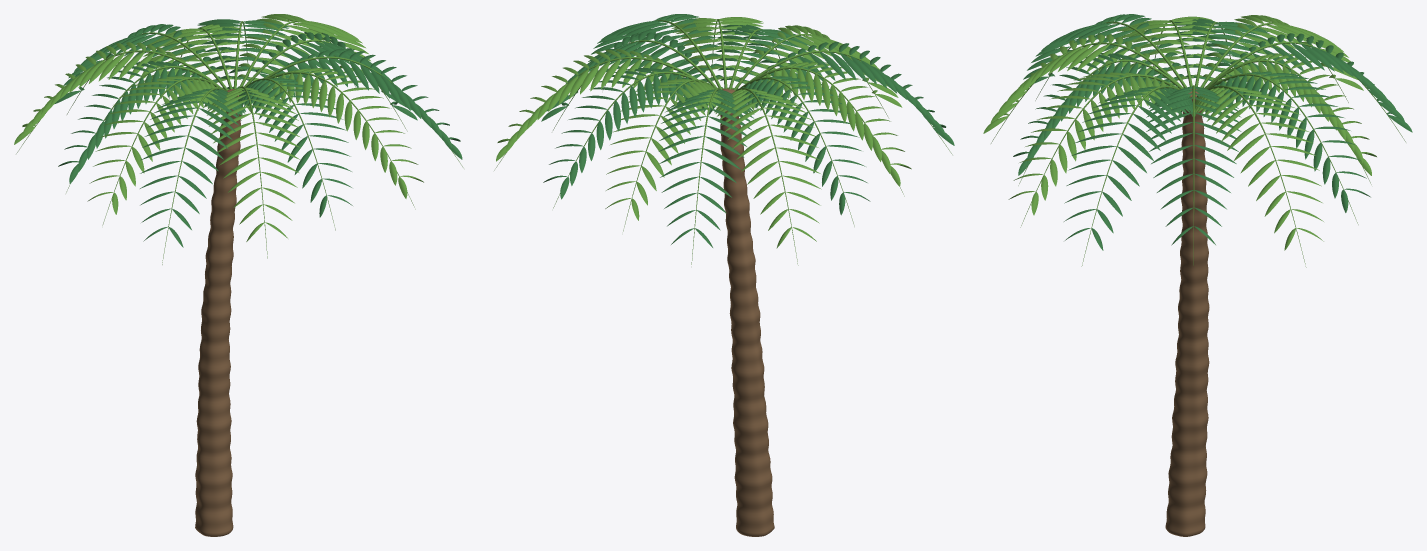
File: Palm_tree.glb
The picture shows the model from 3 angles, left to right: view 1: azimuth 30°, elevation 25°; view 2: azimuth 150°, elevation 25°; view 3: azimuth 270°, elevation 25°; orthographic projection. The views are drawn at different scales.
Parts seen in each view (by area): view 1: Palm_tree_GameMesh; view 2: Palm_tree_GameMesh; view 3: Palm_tree_GameMesh.
Part boxes in pixels (box(x1,y1,x2,y2)): Palm_tree_GameMesh: box(14, 14, 463, 536); Palm_tree_GameMesh: box(494, 14, 954, 536); Palm_tree_GameMesh: box(983, 14, 1412, 536).
Size of the model in its own units: 3.17 by 4.09 by 3.28.
